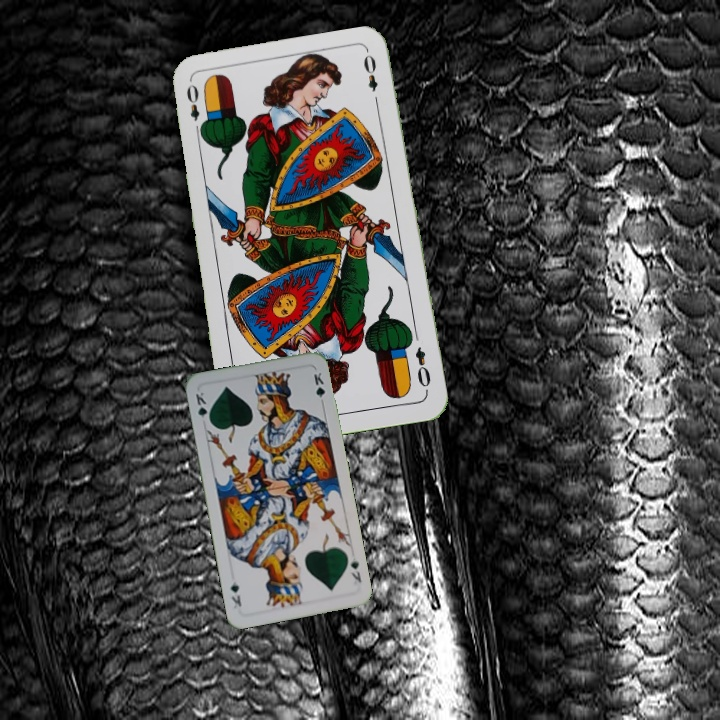EO: (182, 80, 207, 138), (411, 343, 434, 390)
GK: (191, 388, 213, 426), (346, 554, 364, 585)
